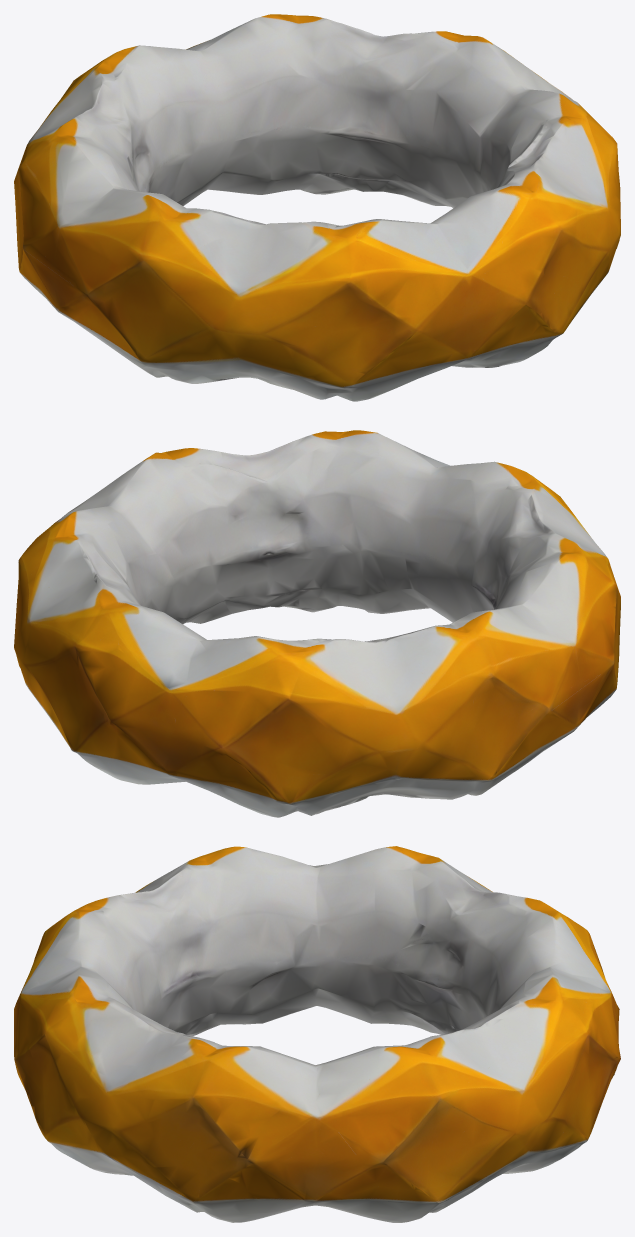
Rendered from halo.glb.
3 views of the same model, one above another, from view 1: azimuth 30°, elevation 25°; view 2: azimuth 150°, elevation 25°; view 3: azimuth 270°, elevation 25° (orthographic).
Size of the model in its own units: 1.99 by 0.6433 by 2.
Materials: 1 (1 with a texture image).
